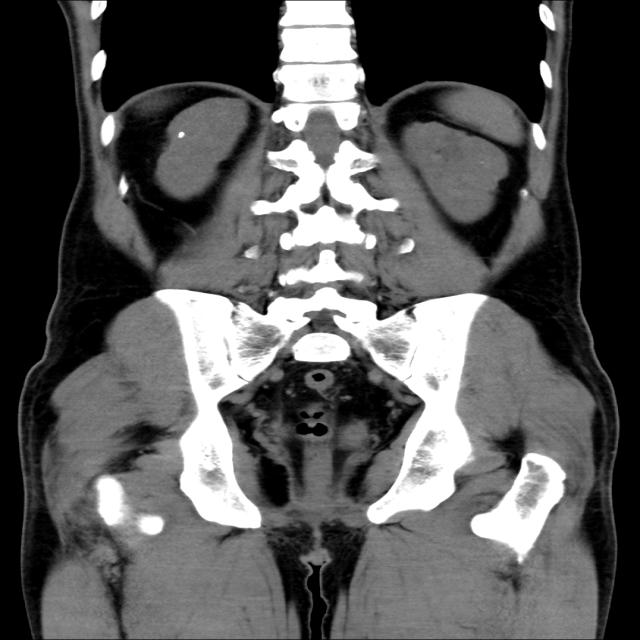kidneystone: (178, 131, 185, 138)
